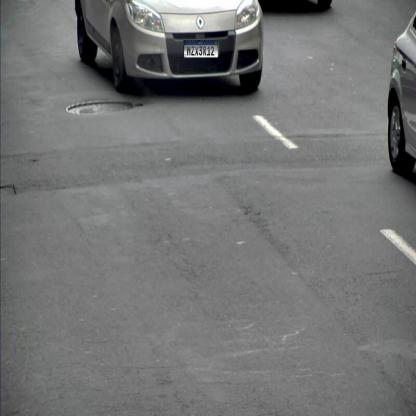PlacaM: (184, 40, 218, 58)
